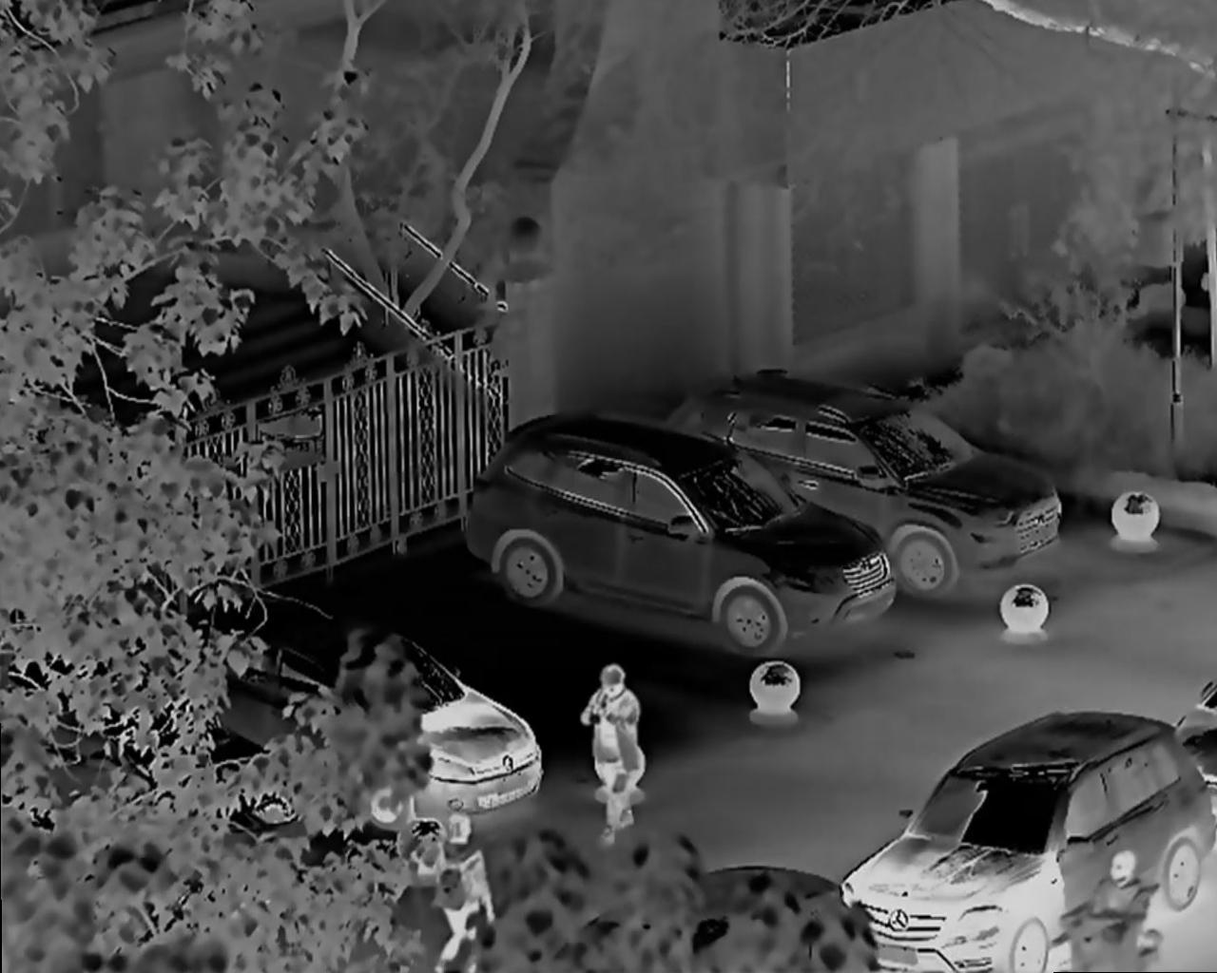person: (583, 662, 673, 829), (439, 811, 508, 969), (1078, 856, 1156, 965)
